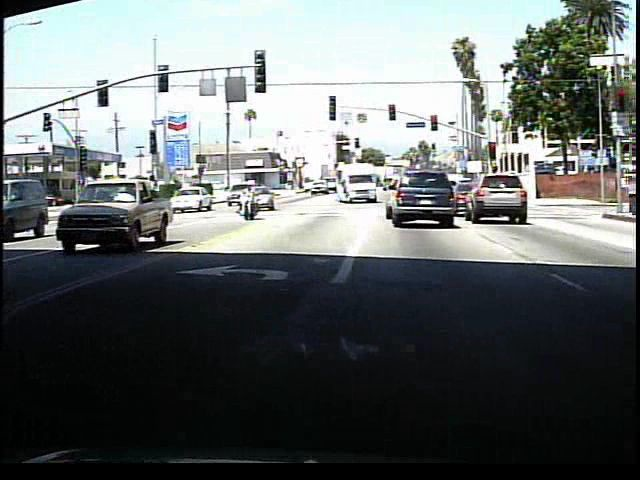person: (238, 183, 259, 223)
